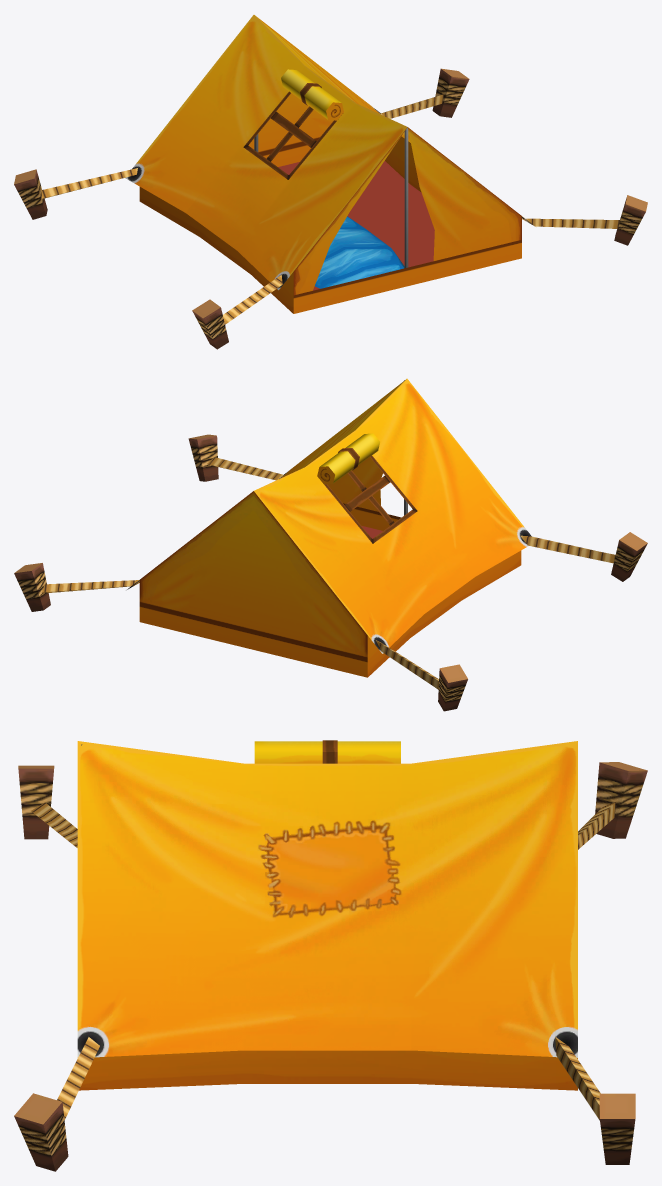
The model's file is tent_a.gltf.
3 renders of one model, top to bottom at view 1: azimuth 30°, elevation 25°; view 2: azimuth 150°, elevation 25°; view 3: azimuth 270°, elevation 25°, orthographic. The views are drawn at different scales.
Parts seen in each view (by area): view 1: tent_A, sleepingBag; view 2: tent_A; view 3: tent_A.
Part boxes in pixels (x1=…): tent_A: x1=14, y1=15, x2=647, y2=349; sleepingBag: x1=315, y1=216, x2=404, y2=288; tent_A: x1=14, y1=378, x2=647, y2=711; tent_A: x1=14, y1=740, x2=647, y2=1171.
Bounding box in the file's own units: 3.6 × 1.21 × 2.66.
Materials: 1 (1 with a texture image).
